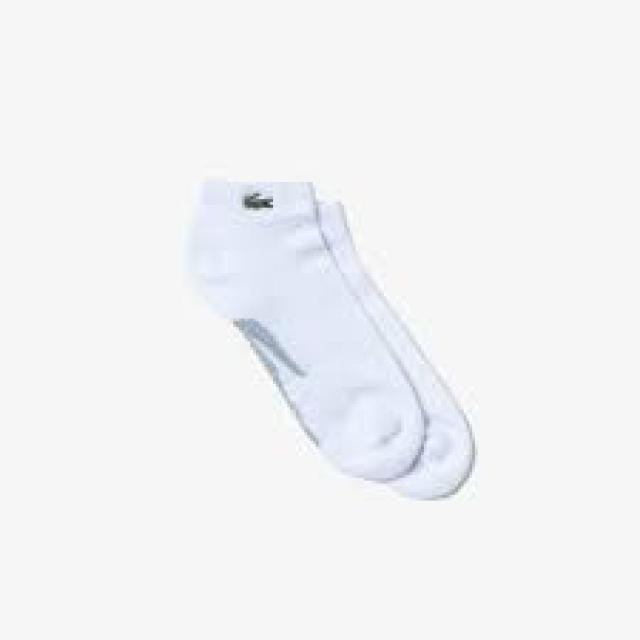sock: (182, 176, 475, 501)
